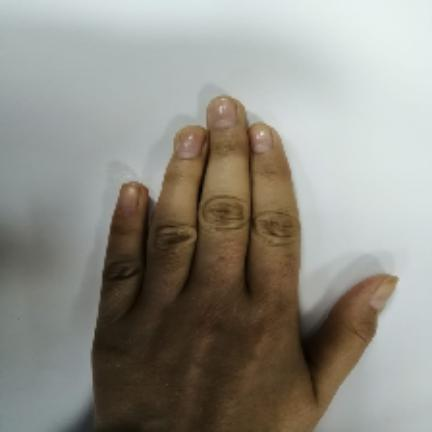Nail: (176, 126, 206, 159), (370, 276, 397, 310), (208, 97, 236, 129), (251, 123, 273, 154), (119, 183, 138, 214)
